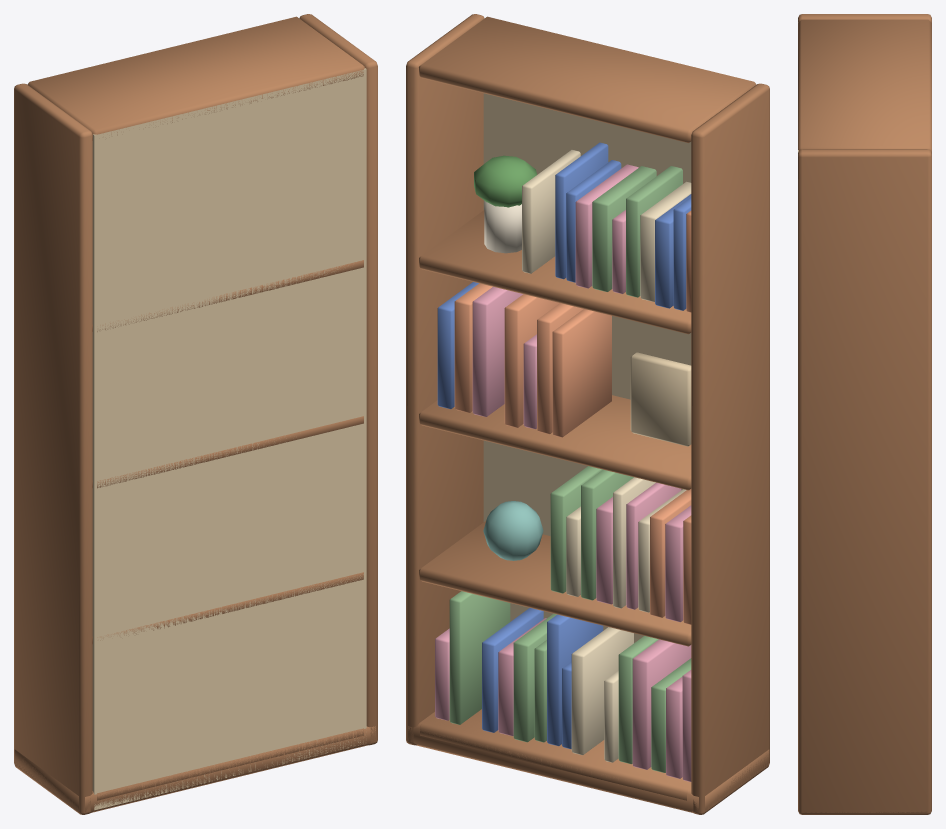
File: senior_bookshelf.glb
3 renders of one model, left to right at view 1: azimuth 30°, elevation 25°; view 2: azimuth 150°, elevation 25°; view 3: azimuth 270°, elevation 25°, orthographic. The views are drawn at different scales.
Visible parts, largest first — view 1: senior_bookshelf__WoodLight, senior_bookshelf__WoodWarm; view 2: senior_bookshelf__WoodWarm, senior_bookshelf__BookPink, senior_bookshelf__BookGreen, senior_bookshelf__WoodLight, senior_bookshelf__BookOrange, senior_bookshelf__Cream, senior_bookshelf__BookBlue, senior_bookshelf__Ceramic, senior_bookshelf__Leaf, senior_bookshelf__Pot; view 3: senior_bookshelf__WoodWarm.
Part boxes in pixels (x1,y1,x2,y2): senior_bookshelf__WoodLight: (92,68,366,810); senior_bookshelf__WoodWarm: (14,14,377,814); senior_bookshelf__WoodWarm: (406,14,769,814); senior_bookshelf__BookPink: (435,164,691,781); senior_bookshelf__BookGreen: (449,166,691,772); senior_bookshelf__WoodLight: (483,93,691,642); senior_bookshelf__BookOrange: (454,211,691,624); senior_bookshelf__Cream: (522,150,691,762); senior_bookshelf__BookBlue: (437,142,691,749); senior_bookshelf__Ceramic: (483,501,543,560); senior_bookshelf__Leaf: (474,155,536,207); senior_bookshelf__Pot: (484,201,521,253); senior_bookshelf__WoodWarm: (798,14,931,814).
Bounding box in the file's own units: 0.8 × 1.75 × 0.32.
